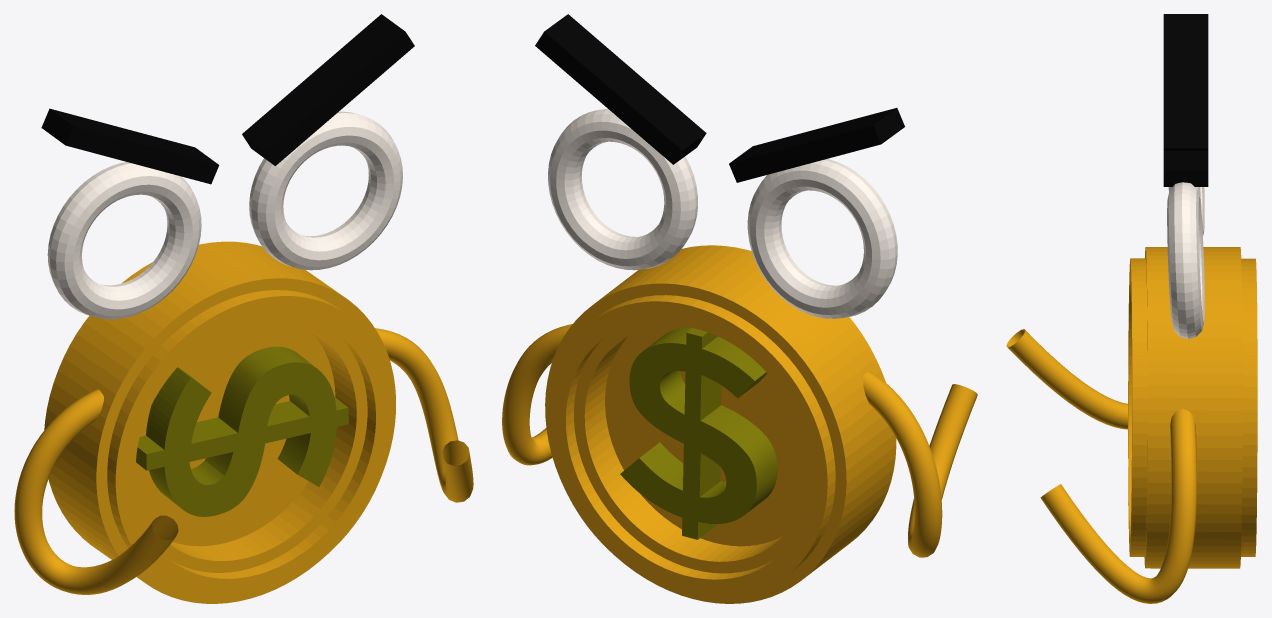
The model's file is PièceMéchante.fbx.
3 views of the same model, side by side, from view 1: azimuth 30°, elevation 25°; view 2: azimuth 150°, elevation 25°; view 3: azimuth 270°, elevation 25° (orthographic). The views are drawn at different scales.
Visible parts, largest first — view 1: Cylinder.001, Curve.003, Torus, Torus.001, NurbsPath.001, Cube.001, Cube, NurbsPath; view 2: Cylinder.001, Curve.002, Torus, Torus.001, Cube.001, NurbsPath.001, Cube, NurbsPath; view 3: Cylinder.001, NurbsPath, Cube, Torus.001, NurbsPath.001, Cube.001.
Boxes of the visible parts, left/top/right/bottom form: Cylinder.001: left=44, top=241, right=395, bottom=603; Curve.003: left=136, top=346, right=348, bottom=516; Torus: left=47, top=162, right=201, bottom=319; Torus.001: left=249, top=111, right=402, bottom=270; NurbsPath.001: left=14, top=389, right=178, bottom=594; Cube.001: left=242, top=14, right=414, bottom=165; Cube: left=41, top=108, right=219, bottom=184; NurbsPath: left=375, top=328, right=473, bottom=502; Cylinder.001: left=545, top=245, right=896, bottom=603; Curve.002: left=620, top=327, right=777, bottom=539; Torus: left=747, top=159, right=897, bottom=318; Torus.001: left=548, top=109, right=697, bottom=270; Cube.001: left=535, top=14, right=706, bottom=164; NurbsPath.001: left=863, top=371, right=977, bottom=557; Cube: left=729, top=108, right=904, bottom=182; NurbsPath: left=502, top=324, right=572, bottom=465; Cylinder.001: left=1128, top=247, right=1257, bottom=568; NurbsPath: left=1040, top=409, right=1196, bottom=603; Cube: left=1163, top=14, right=1208, bottom=150; Torus.001: left=1167, top=182, right=1204, bottom=338; NurbsPath.001: left=1006, top=329, right=1127, bottom=429; Cube.001: left=1163, top=151, right=1208, bottom=186.
Size of the model in its own units: 292 by 329 by 156.
